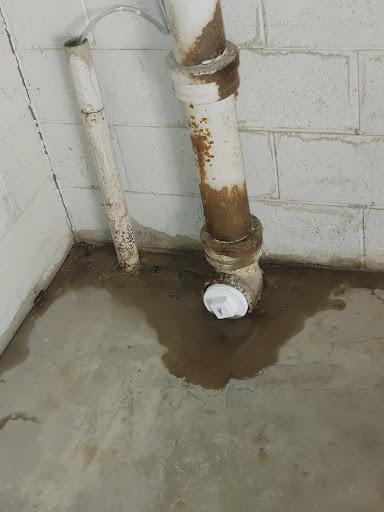water accumulation: (0, 243, 384, 388)
